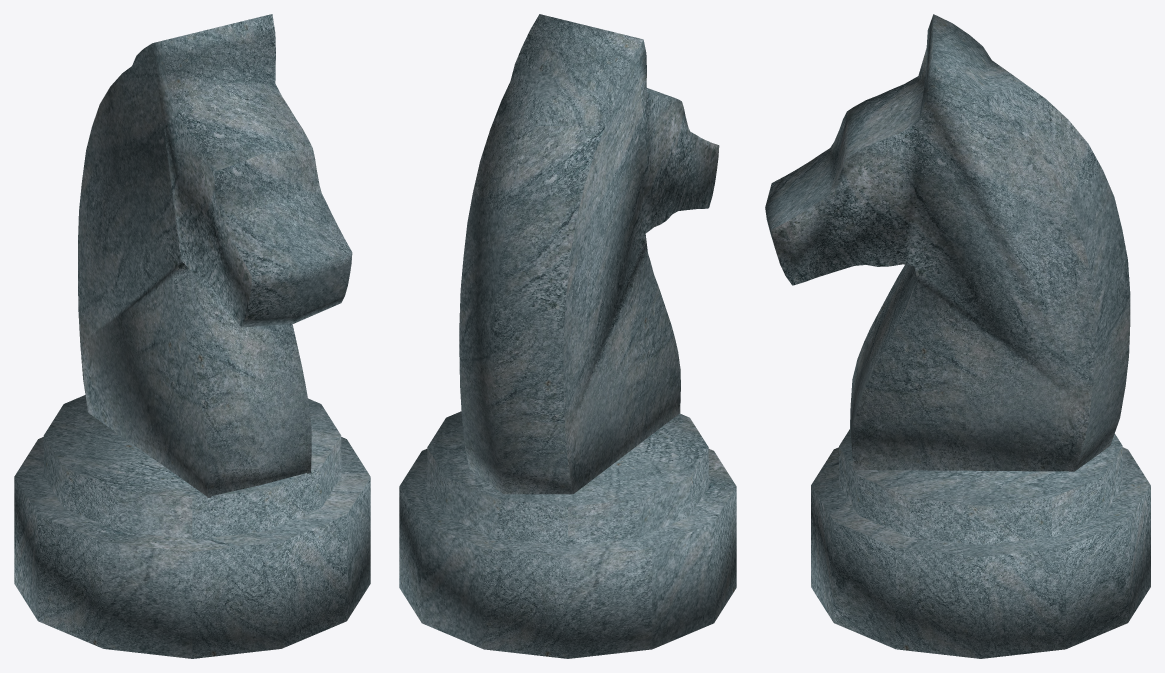
File: CaballoBlanco.glb
3 renders of one model, left to right at view 1: azimuth 30°, elevation 25°; view 2: azimuth 150°, elevation 25°; view 3: azimuth 270°, elevation 25°, orthographic. The views are drawn at different scales.
Parts seen in each view (by area): view 1: Caballo; view 2: Caballo; view 3: Caballo.
Part boxes in pixels (x1,y1,x2,y2): Caballo: (14, 14, 370, 658); Caballo: (399, 14, 736, 658); Caballo: (765, 14, 1150, 658).
Bounding box in the file's own units: 0.7016 × 1.25 × 0.7963.
Materials: 1 (1 with a texture image).
